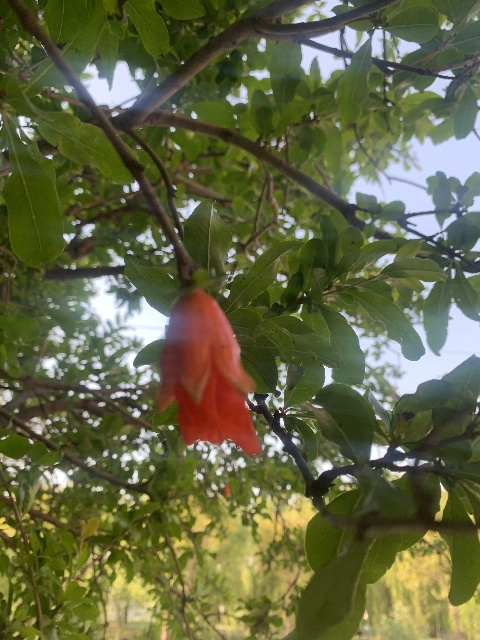flower: (154, 287, 260, 455)
